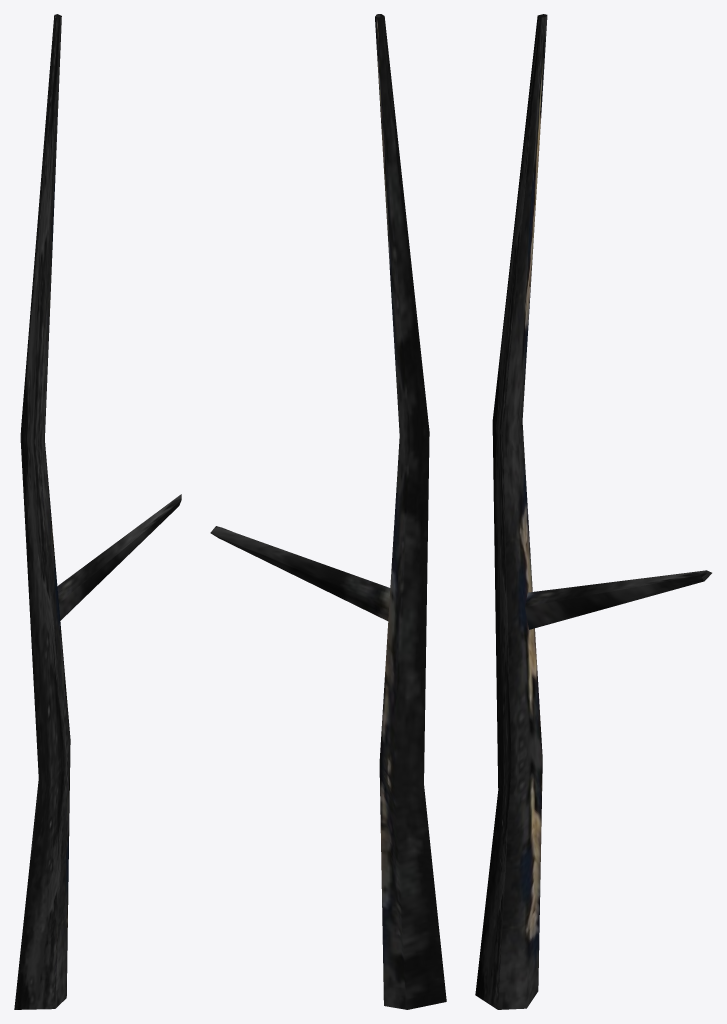
Rendered from pir_m_prp_vol_treeDead_b.fbx.
3 views of the same model, side by side, from view 1: azimuth 30°, elevation 25°; view 2: azimuth 150°, elevation 25°; view 3: azimuth 330°, elevation 25° (orthographic).
Parts seen in each view (by area): view 1: lod_high; view 2: lod_high; view 3: lod_high.
Boxes of the visible parts, x1=… form: lod_high: x1=14, y1=14, x2=181, y2=1009; lod_high: x1=210, y1=14, x2=446, y2=1009; lod_high: x1=475, y1=14, x2=711, y2=1009.
Size of the model in its own units: 1151 by 5345 by 435.
1 material, 1 textured.
